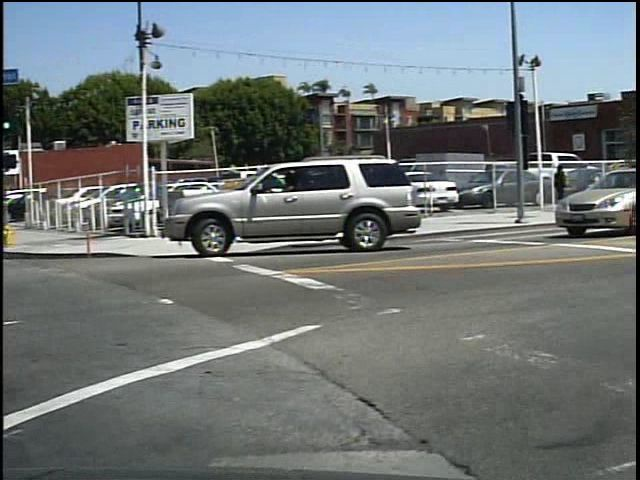person: (553, 160, 577, 216)
